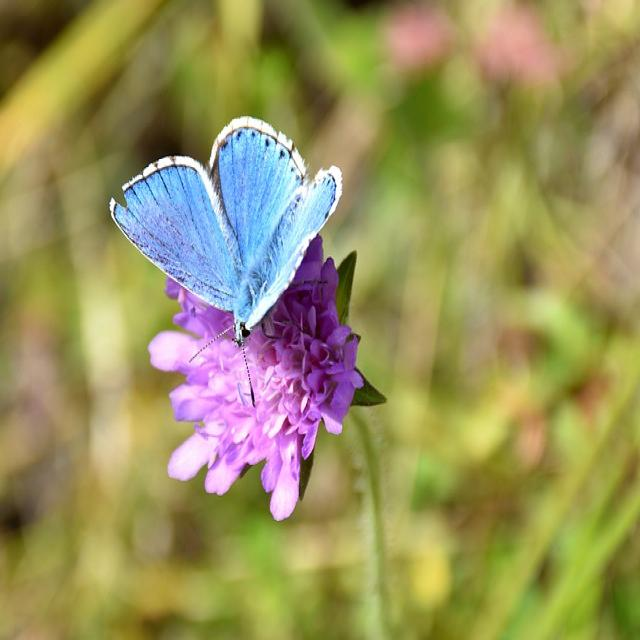butterfly: (109, 118, 342, 343)
